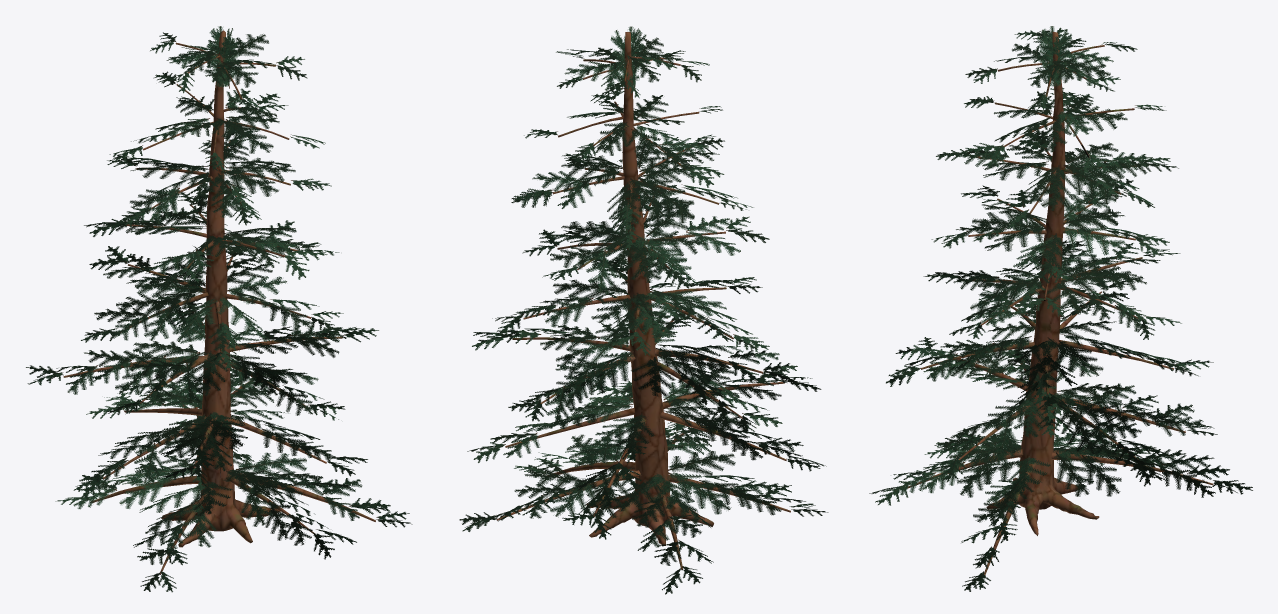
File: tree_pine.glb
3 views of the same model, side by side, from view 1: azimuth 30°, elevation 25°; view 2: azimuth 150°, elevation 25°; view 3: azimuth 270°, elevation 25° (orthographic). The views are drawn at different scales.
Visible parts, largest first — view 1: tree_pine; view 2: tree_pine; view 3: tree_pine.
Boxes of the visible parts, <box> form: tree_pine: <box>26,26,412,592</box>; tree_pine: <box>459,26,828,594</box>; tree_pine: <box>869,26,1252,591</box>.
Size of the model in its own units: 4.66 by 6.63 by 4.88.
Materials: 2 (2 with a texture image).
